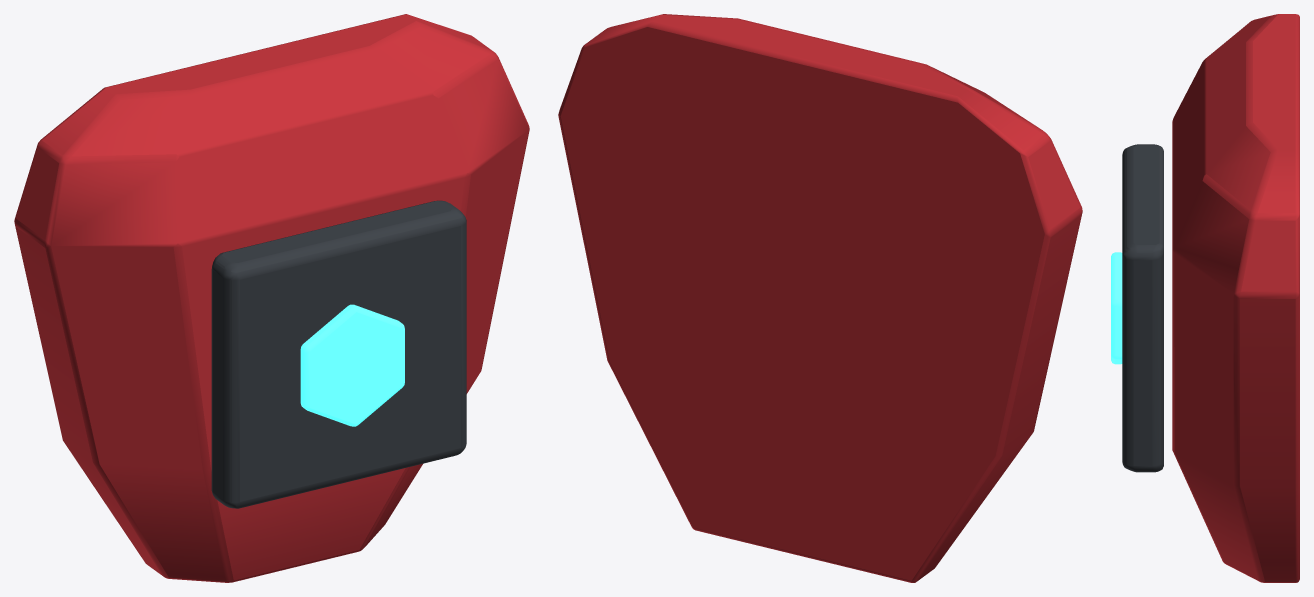
Rendered from HeadBack_Set10_Aegis.fbx.
The picture shows the model from 3 angles, left to right: view 1: azimuth 30°, elevation 25°; view 2: azimuth 150°, elevation 25°; view 3: azimuth 270°, elevation 25°; orthographic projection. The views are drawn at different scales.
Parts seen in each view (by area): view 1: HeadBack_Set10_Aegis; view 2: HeadBack_Set10_Aegis; view 3: HeadBack_Set10_Aegis.
Part boxes in pixels (<box>): HeadBack_Set10_Aegis: <box>14,14,529,582</box>; HeadBack_Set10_Aegis: <box>558,14,1082,582</box>; HeadBack_Set10_Aegis: <box>1111,14,1299,582</box>.
Size of the model in its own units: 0.5586 by 0.54 by 0.204.
